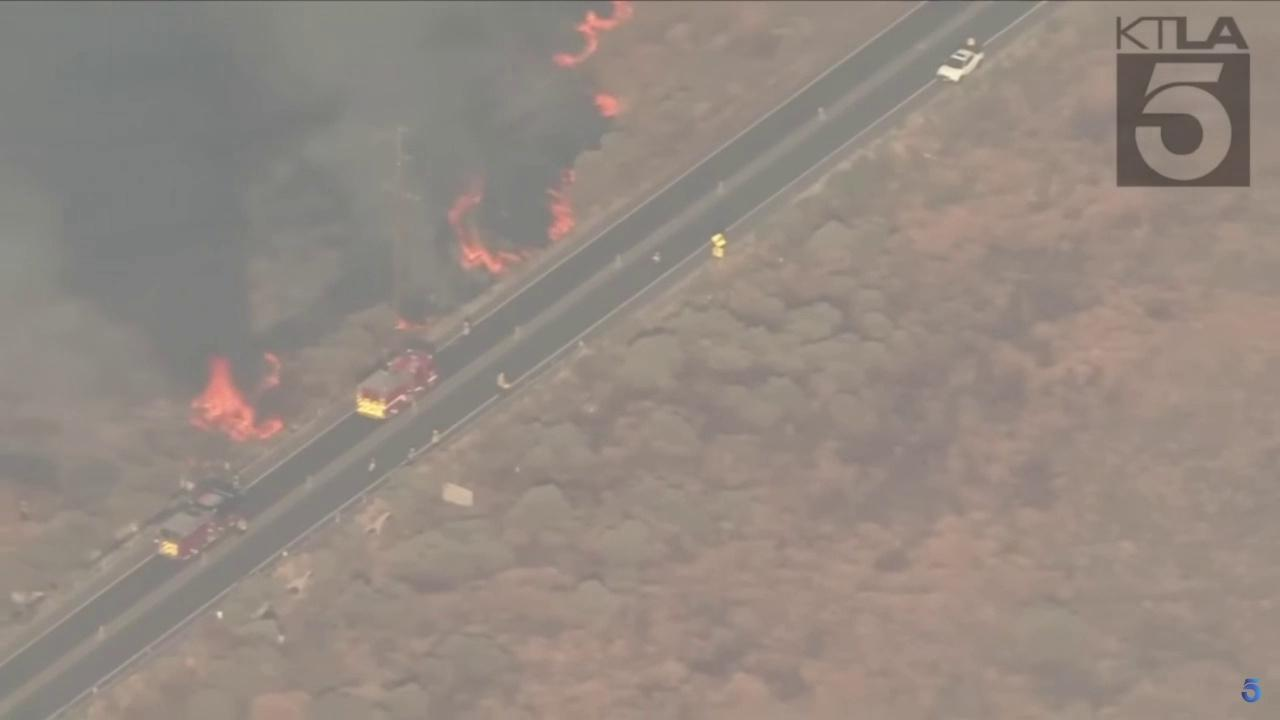fire: (186, 351, 286, 442), (443, 195, 523, 277), (551, 0, 635, 69), (545, 166, 577, 245), (591, 93, 620, 120), (392, 317, 413, 332)
smoke: (0, 0, 614, 412)
